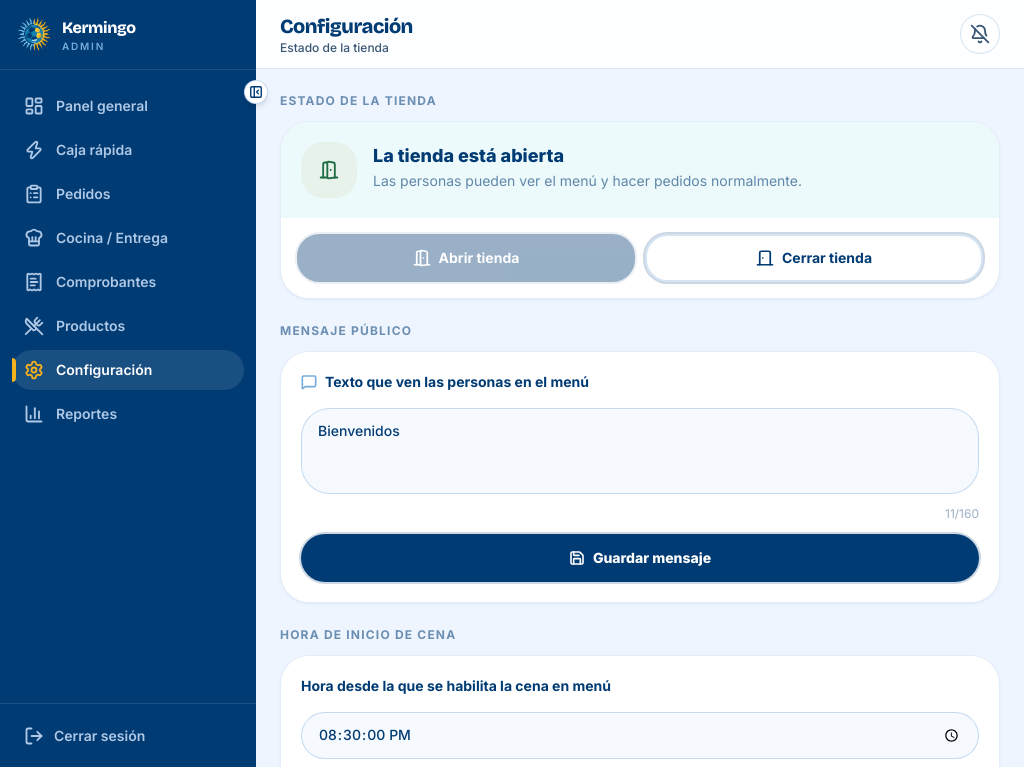
Test: ConfigScreen › guarda solo cena_habilitada_desde en el endpoint admin
Replace the text in the time field labelled "Hora desde la que se habilita la cena en menú" with "21:45:30" at (640, 735), box [301,712,979,759]
(page scrolled)
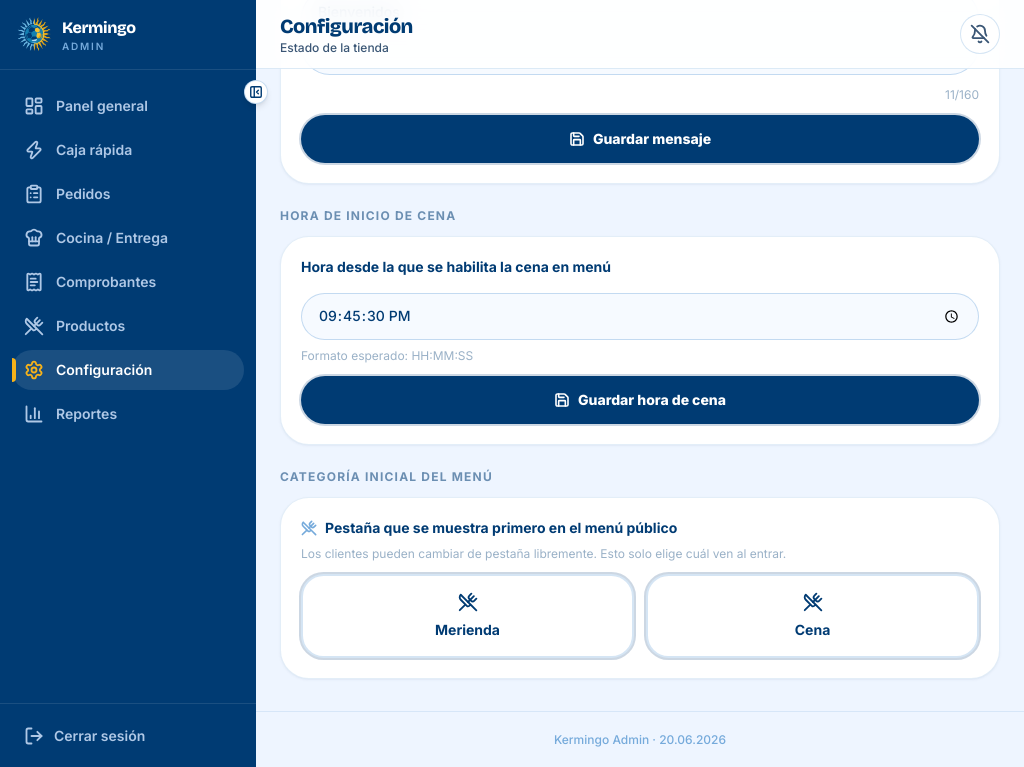
Click the button "Guardar hora de cena" at (640, 400), box [301,376,979,424]
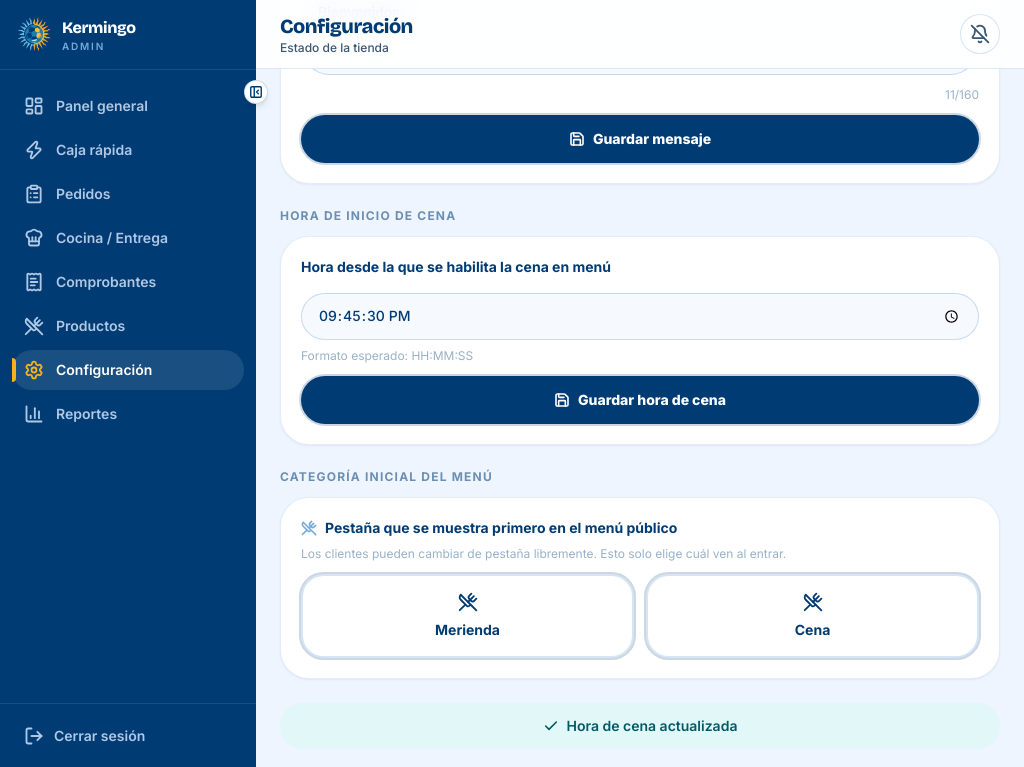
Result: the text "Hora de cena actualizada" is shown at [280,703,1000,749]
